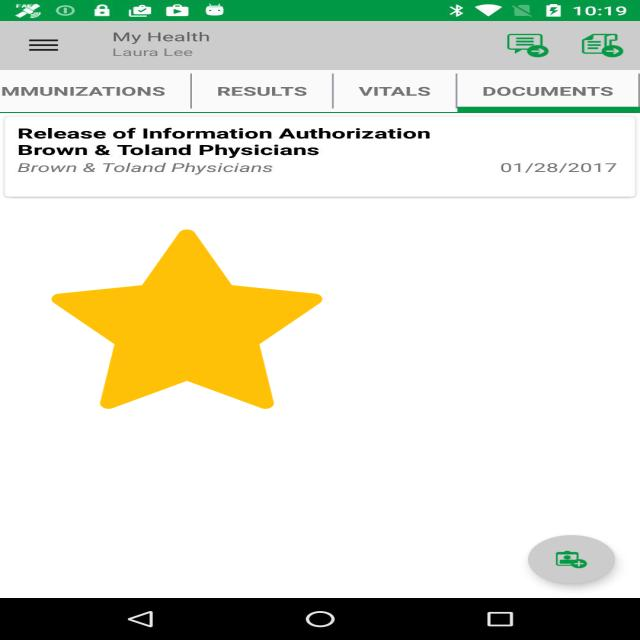forced continuity: (51, 229, 322, 409)
